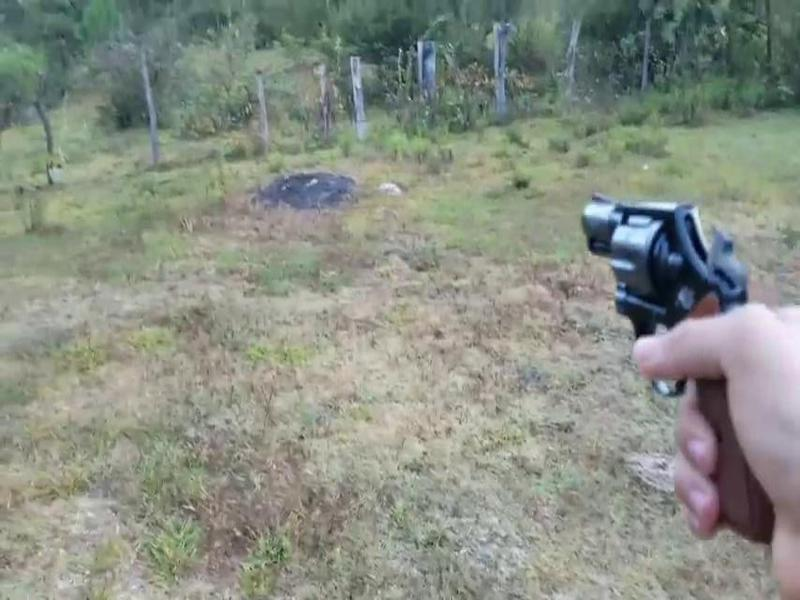Revolver: (551, 169, 795, 560)
